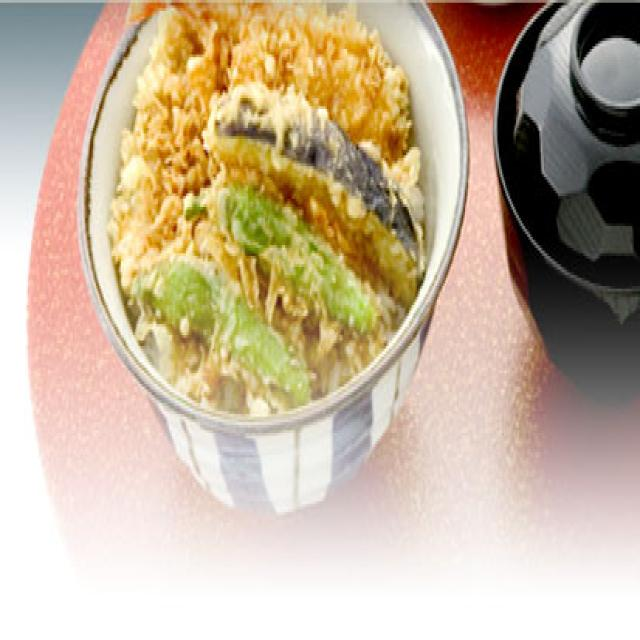熟制海鲜: (68, 0, 471, 441)
